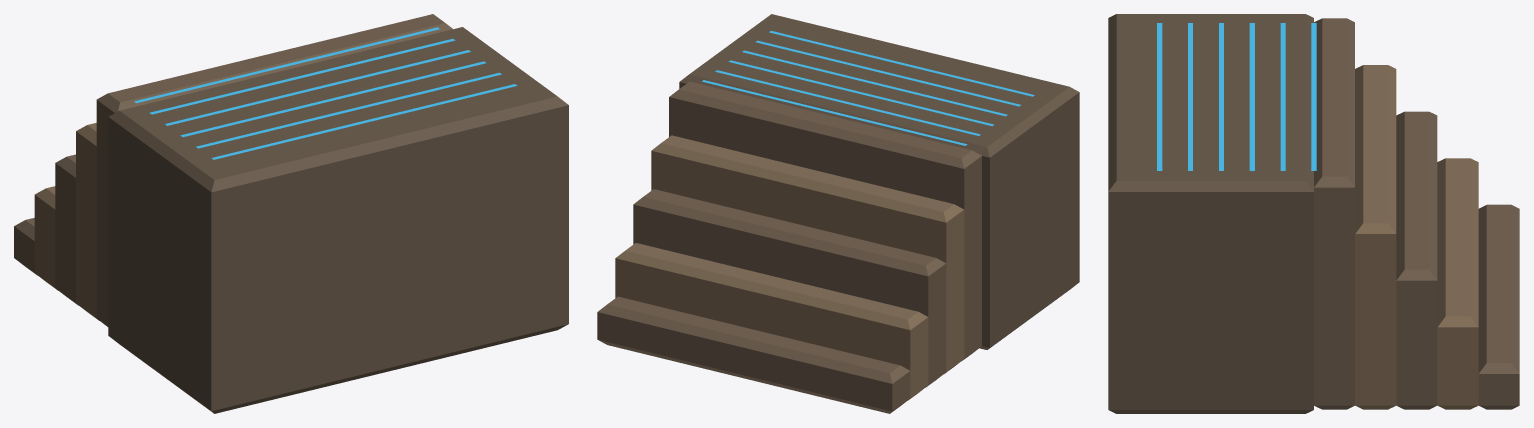
Rendered from stairs_up.fbx.
3 renders of one model, left to right at view 1: azimuth 30°, elevation 25°; view 2: azimuth 150°, elevation 25°; view 3: azimuth 270°, elevation 25°, orthographic. The views are drawn at different scales.
Visible parts, largest first — view 1: stairs_up; view 2: stairs_up; view 3: stairs_up.
Part boxes in pixels (x1=…): stairs_up: x1=14, y1=14, x2=568, y2=413; stairs_up: x1=597, y1=14, x2=1079, y2=413; stairs_up: x1=1108, y1=14, x2=1519, y2=413.
Bounding box in the file's own units: 4 × 2.51 × 4.
